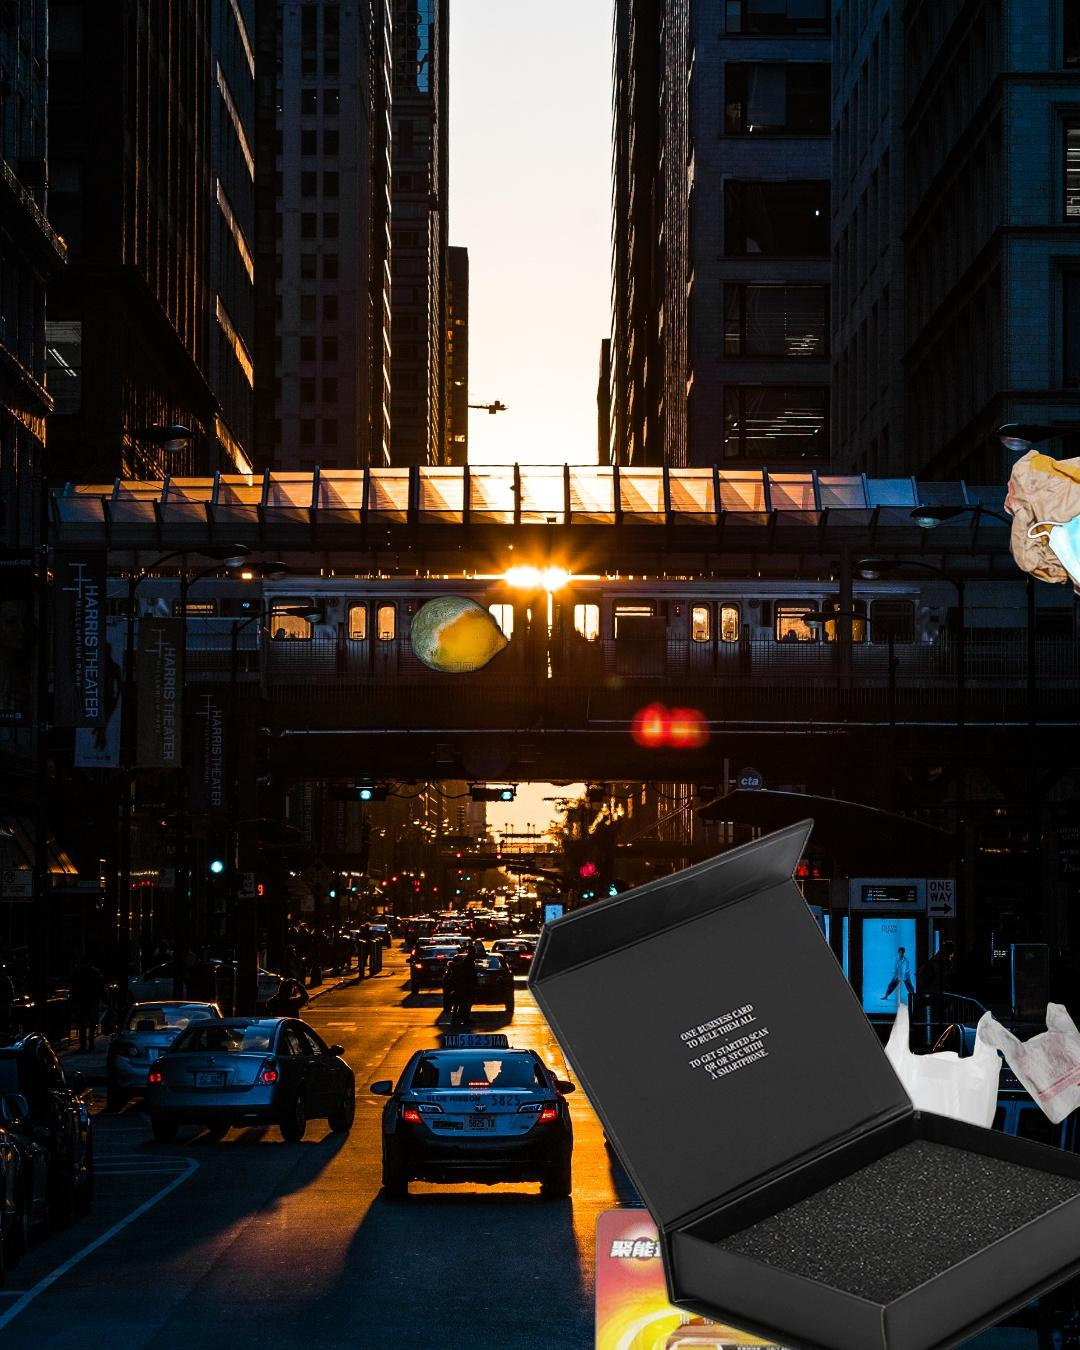battery: (585, 1201, 931, 1350)
biological: (408, 592, 512, 753)
paper-bag: (1001, 449, 1080, 683)
plastic-bag: (863, 917, 1080, 1185)
trash: (1024, 483, 1080, 654)
trashbox-cardboard: (520, 811, 1080, 1350)
